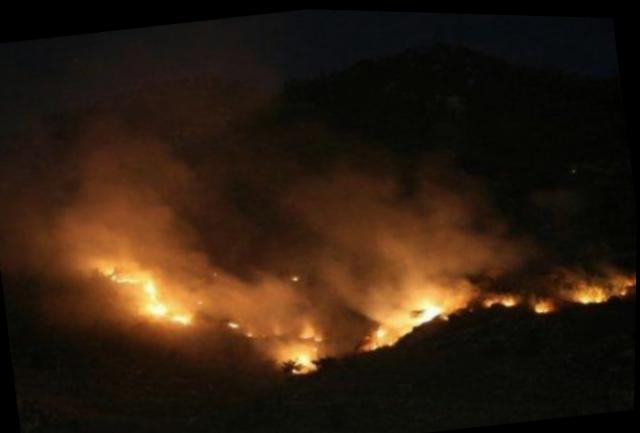fire: (94, 235, 210, 340), (483, 270, 619, 322), (352, 291, 452, 361), (254, 305, 332, 378)
